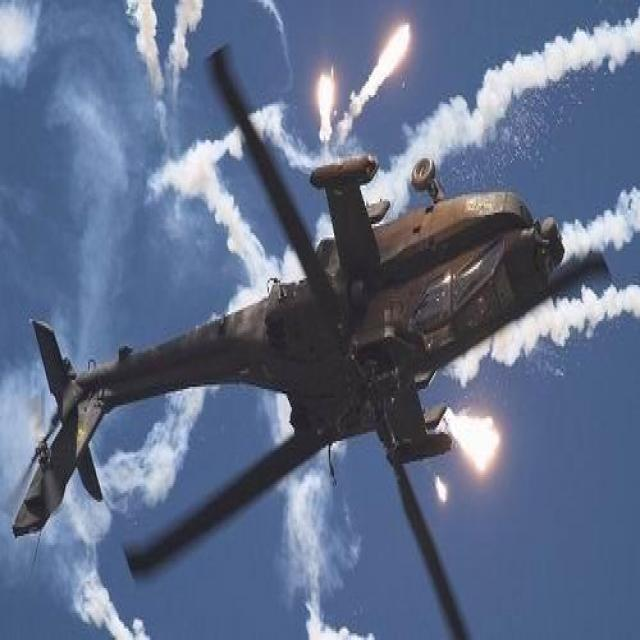MIL_HELO: (13, 42, 619, 640)
